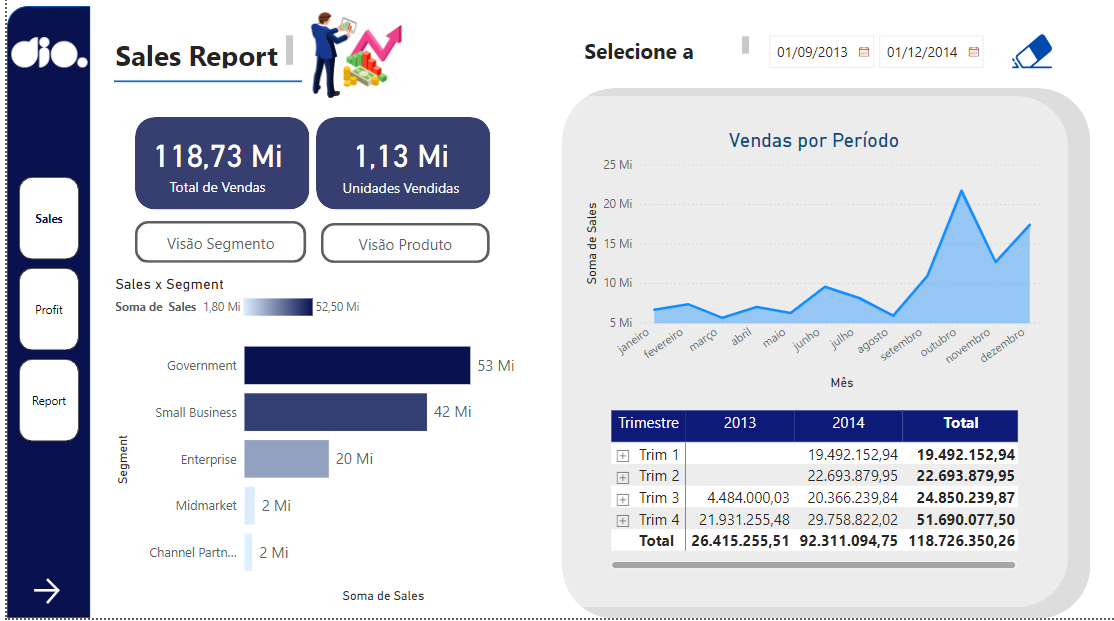

What the dashboard file says about the page in this screenshot:
{"tool":"powerbi","page":{"name":"Sales","canvas":[1280,720],"ordinal":0},"visuals":[{"type":"group","id":"g1","title":"Layout","box":[0,-0.5,511.4,720],"z":0},{"type":"shape","box":[0,13.4,96.4,706.2],"z":0,"group":"g1"},{"type":"slicer","fields":{"Values":["financials.Date"]},"box":[867.2,38.7,272.2,55],"z":0,"group":"g3"},{"type":"shape","box":[123.8,84.5,217.2,33],"z":0,"group":"g4"},{"type":"shape","box":[147.2,142.2,201.4,106.8],"z":0,"group":"g2"},{"type":"areaChart","title":"Vendas por Período","fields":{"Category":["financials.Date.Variation.Hierarquia de datas.Ano","financials.Date.Variation.Hierarquia de datas.Mês"],"Y":["Sum(financials. Sales)"]},"box":[661.6,156.1,539.7,306.2],"z":0,"group":"g6"},{"type":"clusteredBarChart","title":"Sales x Segment","fields":{"Category":["financials.Segment"],"Y":["Sum(financials. Sales)"]},"box":[120.4,323.9,479.3,383],"z":0,"group":"g5"},{"type":"image","title":"logo_dio","box":[0,35.7,98.2,63.2],"z":1000,"group":"g1"},{"type":"textbox","box":[120.4,43.1,215.2,48.5],"z":1000,"group":"g4"},{"type":"textbox","box":[661.6,44.7,199.6,45.6],"z":1000,"group":"g3"},{"type":"shape","box":[355.9,142.2,201.4,106.8],"z":1000,"group":"g2"},{"type":"actionButton","title":"Botão - Next","box":[25.9,669,48.8,39.6],"z":1000},{"type":"image","box":[322.6,-0.5,188.8,141.2],"z":2000,"group":"g1"},{"type":"actionButton","box":[1153.4,43.3,59.9,51.3],"z":2000,"group":"g3"},{"type":"group","id":"g2","title":"Cartões","box":[147.2,141.2,410.3,107],"z":2000},{"type":"card","fields":{"Values":["Sum(financials. Sales)"]},"box":[161.1,141.2,162.6,106.9],"z":2000,"group":"g2"},{"type":"actionButton","title":"B-Segmento","box":[147.8,261.6,197.5,48.4],"z":2000,"group":"g5"},{"type":"group","id":"g3","title":"Filtro por data","box":[661.6,38.7,551.5,55],"z":3000},{"type":"image","title":"clean","box":[1153.4,39,59.9,55.6],"z":3000,"group":"g3"},{"type":"card","fields":{"Values":["Sum(financials.Units Sold)"]},"box":[375.8,145.4,156.5,98.6],"z":3000,"group":"g2"},{"type":"actionButton","title":"B-Produto","box":[362.2,264.3,194.6,46.3],"z":3000,"group":"g5"},{"type":"shape","box":[640.7,108.5,609.5,612.5],"z":4000},{"type":"group","id":"g4","title":"Title report","box":[120.4,43.1,221.5,74.3],"z":5000},{"type":"group","id":"g5","title":"Grupo 1","box":[120.4,261.6,478.7,446],"z":6000},{"type":"shape","box":[584.3,117.4,640.7,590.2],"z":7000},{"type":"group","id":"g6","title":"Perspectiva temporal das vendas","box":[661.6,156.1,539.7,306.2],"z":8000},{"type":"pivotTable","fields":{"Values":["Sum(financials. Sales)"],"Columns":["financials.Date.Variation.Hierarquia de datas.Ano"],"Rows":["financials.Date.Variation.Hierarquia de datas.Trimestre","financials.Date.Variation.Hierarquia de datas.Mês"]},"box":[692.8,475.7,478.7,193.3],"z":9000},{"type":"pageNavigator","box":[13.4,211.1,69.9,306.2],"z":10000}]}

Visuals, with their boxes in screenshot pixels (x1, y1, x2, y2), scaled from the page's 1280x720 canvas onto the 1114x621 screenshot:
"Layout" group: 0/0/445/620
shape: 0/12/84/620
slicer - financials.Date: 755/33/992/81
shape: 108/73/297/101
shape: 128/123/303/215
"Vendas por Período" areaChart: 576/135/1046/399
"Sales x Segment" clusteredBarChart: 105/279/522/610
"logo_dio" image: 0/31/85/85
textbox: 105/37/292/79
textbox: 576/39/750/78
shape: 310/123/485/215
"Botão - Next" actionButton: 23/577/65/611
image: 281/0/445/121
actionButton: 1004/37/1056/82
"Cartões" group: 128/122/485/214
card - Sum(financials. Sales): 140/122/282/214
"B-Segmento" actionButton: 129/226/301/267
"Filtro por data" group: 576/33/1056/81
"clean" image: 1004/34/1056/82
card - Sum(financials.Units Sold): 327/125/463/210
"B-Produto" actionButton: 315/228/485/268
shape: 558/94/1088/620
"Title report" group: 105/37/298/101
"Grupo 1" group: 105/226/521/610
shape: 509/101/1066/610
"Perspectiva temporal das vendas" group: 576/135/1046/399
pivotTable - Sum(financials. Sales) x financials.Date.Variation.Hierarquia de datas.Ano: 603/410/1020/577
pageNavigator: 12/182/72/446
